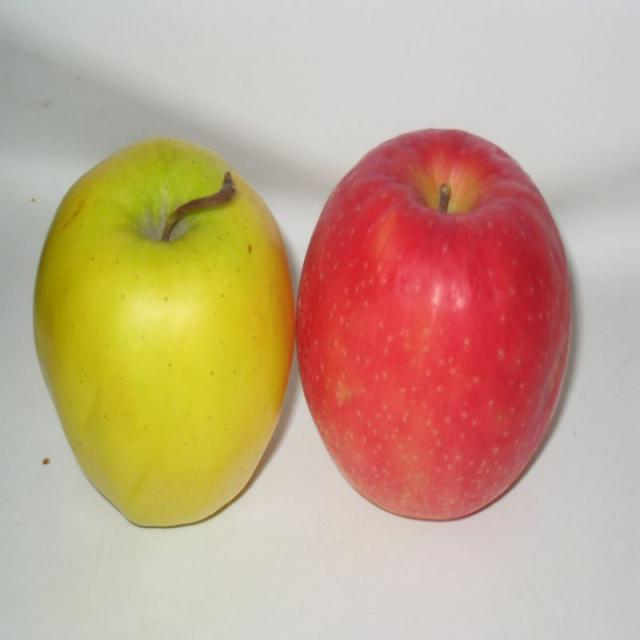Apple: (302, 120, 572, 518), (30, 135, 292, 529)
